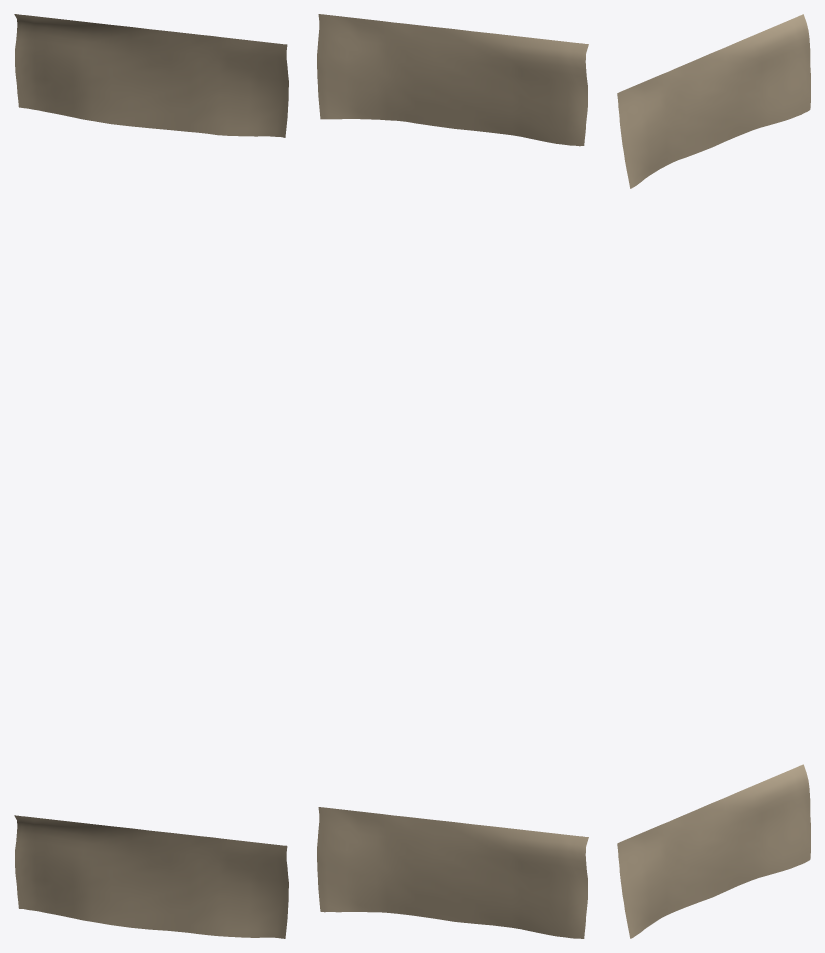
3 renders of one model, left to right at view 1: azimuth 30°, elevation 25°; view 2: azimuth 210°, elevation 25°; view 3: azimuth 270°, elevation 25°, orthographic. The views are drawn at different scales.
Bounding box in the file's own units: 0.7007 × 3.37 × 0.7024.
